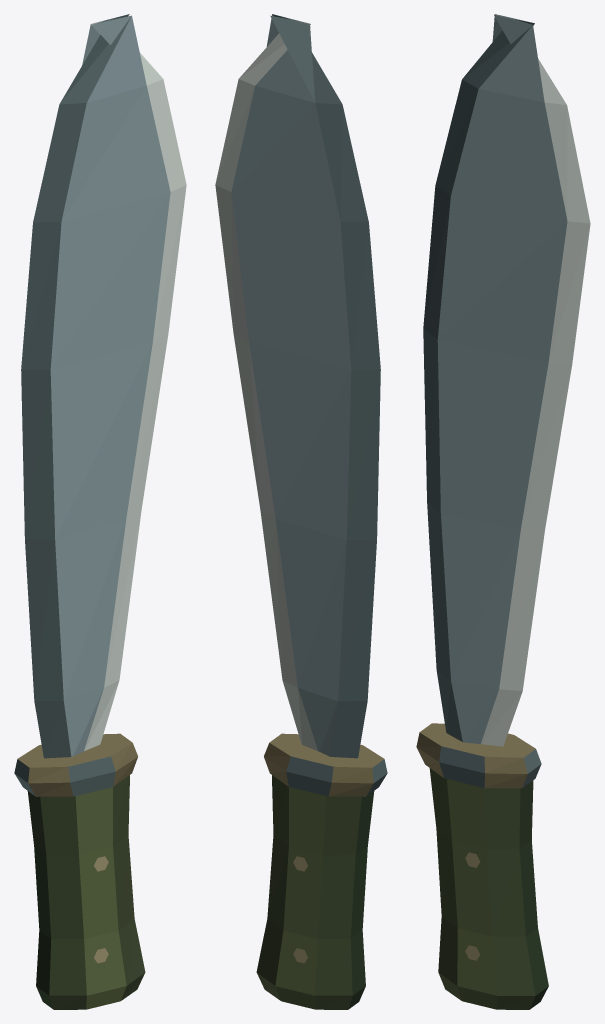
File: machete.obj
The picture shows the model from 3 angles, left to right: view 1: azimuth 30°, elevation 25°; view 2: azimuth 150°, elevation 25°; view 3: azimuth 330°, elevation 25°; orthographic projection.
Visible parts, largest first — view 1: Machete; view 2: Machete; view 3: Machete.
Boxes of the visible parts, x1,y1,x2,y2 form: Machete: [14, 14, 186, 1009]; Machete: [215, 14, 387, 1009]; Machete: [416, 14, 590, 1009].
Size of the model in its own units: 0.264 by 1.48 by 0.0924.
